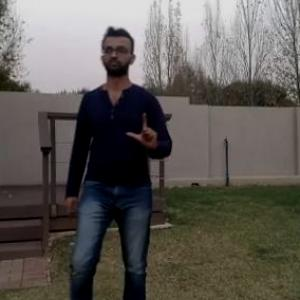land_hand: (116, 105, 160, 154)
